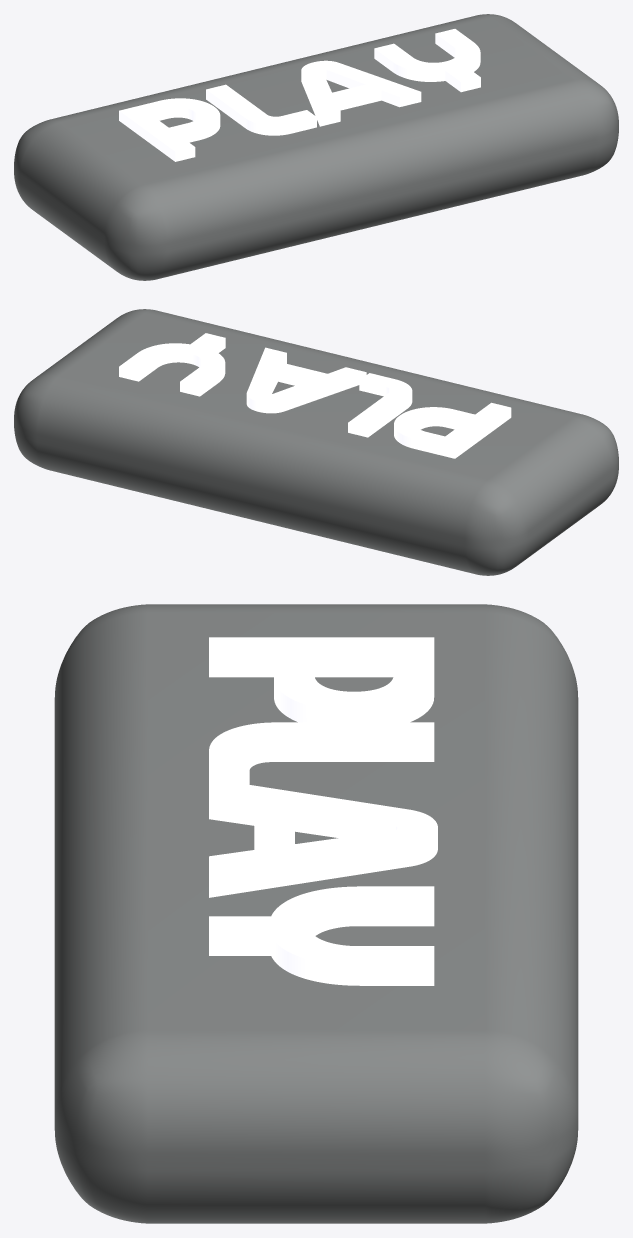
The model's file is btn1.gltf.
3 renders of one model, top to bottom at view 1: azimuth 30°, elevation 25°; view 2: azimuth 150°, elevation 25°; view 3: azimuth 270°, elevation 25°, orthographic. The views are drawn at different scales.
Visible parts, largest first — view 1: Cube, A, P, Y, L; view 2: Cube, A, P, Y, L; view 3: Cube, A, Y, P, L.
Boxes of the visible parts, <box> form: Cube: <box>14,14,618,280</box>; A: <box>301,60,421,126</box>; P: <box>119,98,220,161</box>; Y: <box>374,29,480,92</box>; L: <box>206,84,316,135</box>; Cube: <box>14,309,618,575</box>; A: <box>246,347,366,413</box>; P: <box>394,402,511,458</box>; Y: <box>119,333,225,396</box>; L: <box>348,373,412,437</box>; Cube: <box>54,604,578,1223</box>; A: <box>209,778,437,897</box>; Y: <box>209,886,434,985</box>; P: <box>209,637,434,722</box>; L: <box>209,722,434,784</box>.
Bounding box in the file's own units: 479 × 92.31 × 214.
